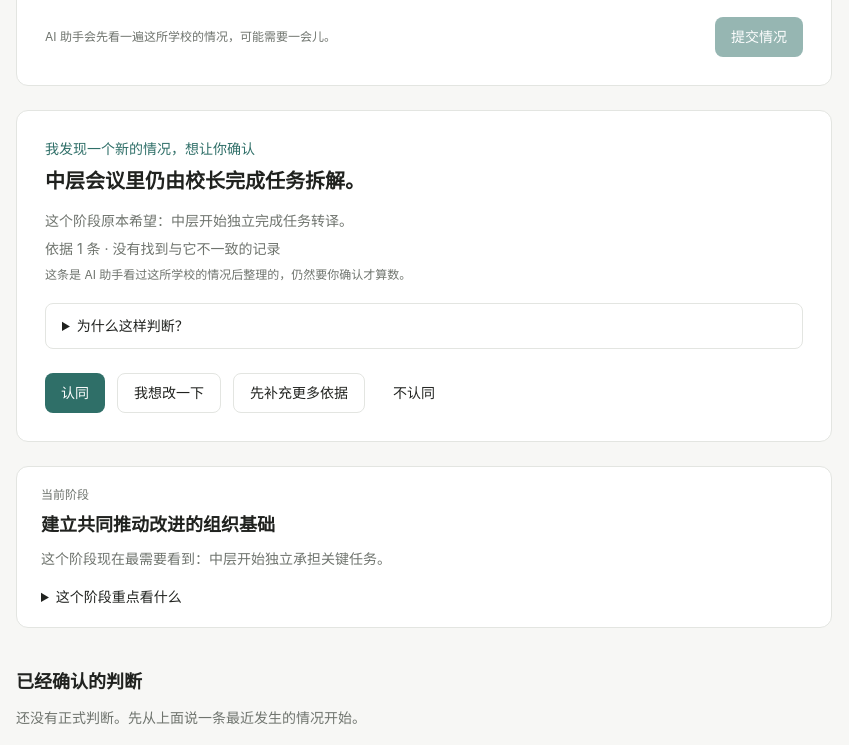
Test case: SchoolWorkspacePage › removes a mount-loaded pending card after the consultant accepts it
(page scrolled)
Expected: the text "我发现一个新的情况，想让你确认" is shown, [45,140,255,157]
Click the button "认同" at (75, 393), box [45,373,105,413]
(page scrolled)
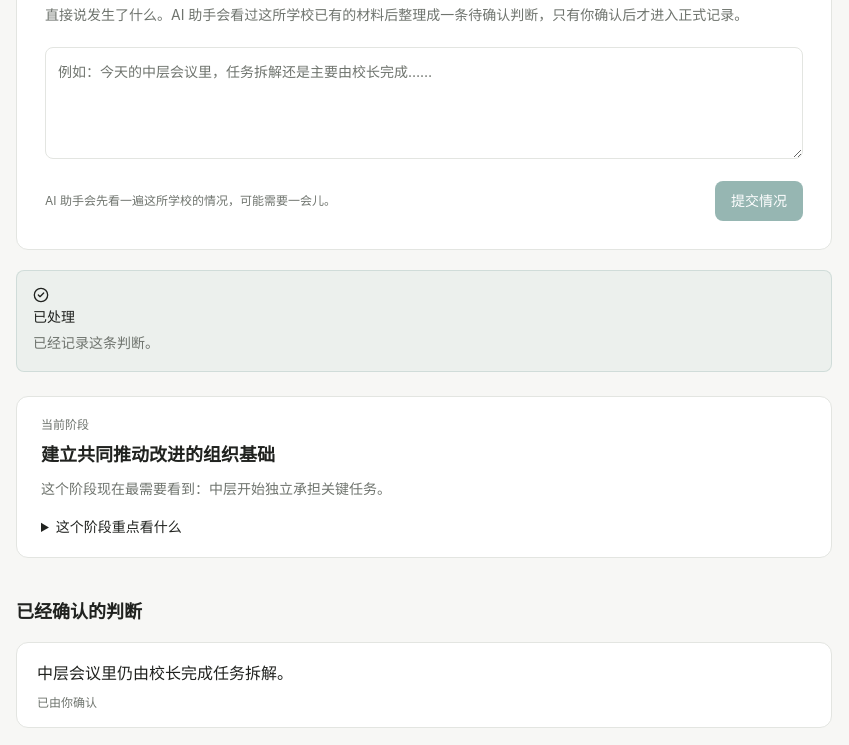
Expected: the text "中层会议里仍由校长完成任务拆解。" is shown, [37,663,293,683]
Expected: the text "已经记录这条判断。" is shown, [33,334,159,351]
Expected: the text "我发现一个新的情况，想让你确认" is gone
